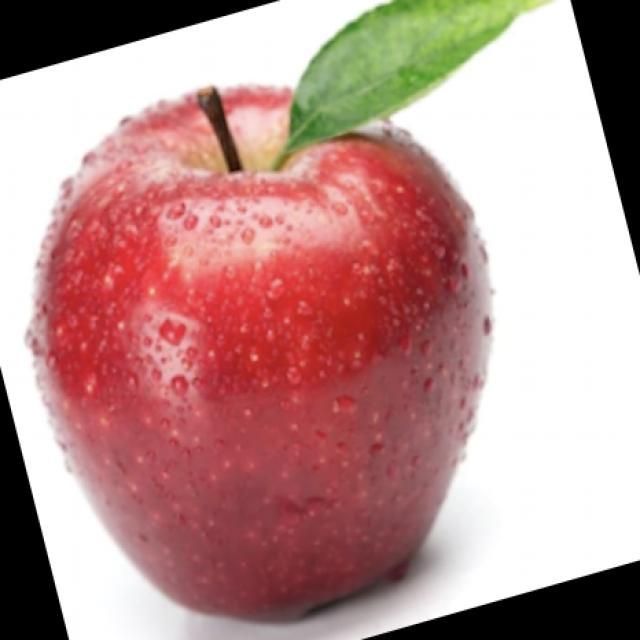Fresh Apple: (63, 87, 470, 623)
